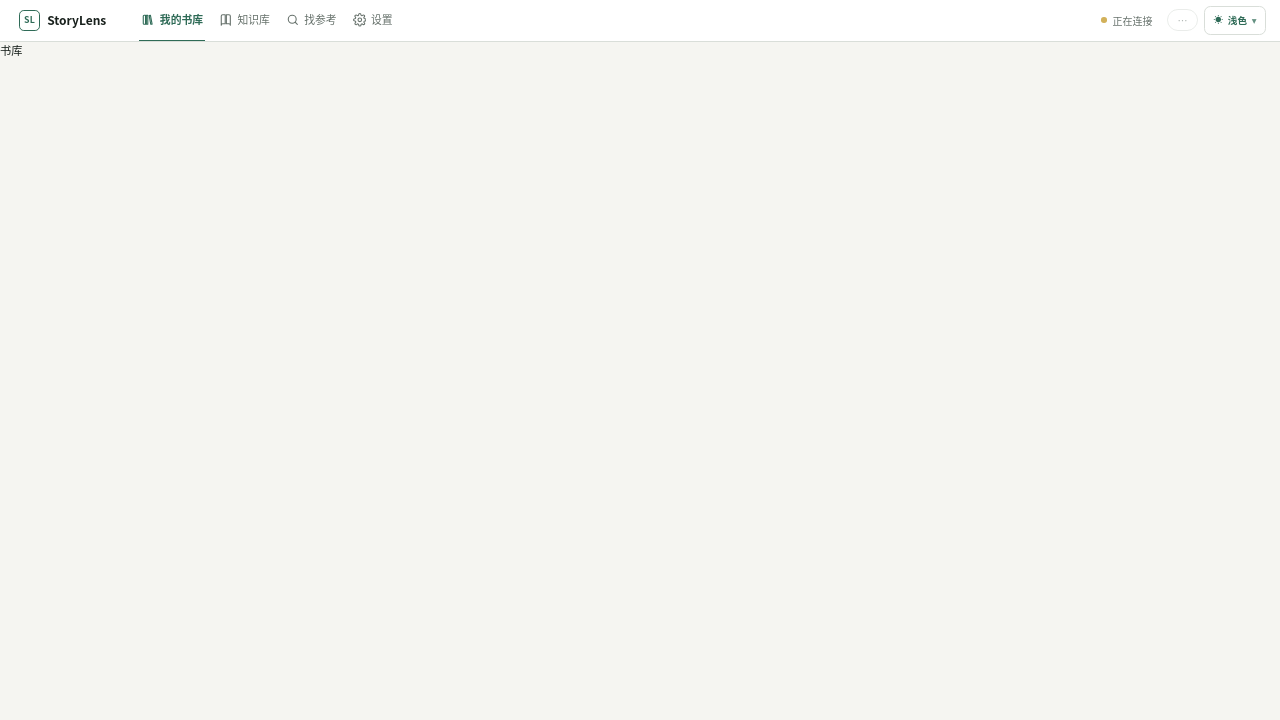
it: Appearance theme header control › keeps theme across routes and settings has no editable theme select
Click the button with test id "appearance-theme-trigger" at [1235, 20], box [1204,6,1266,35]
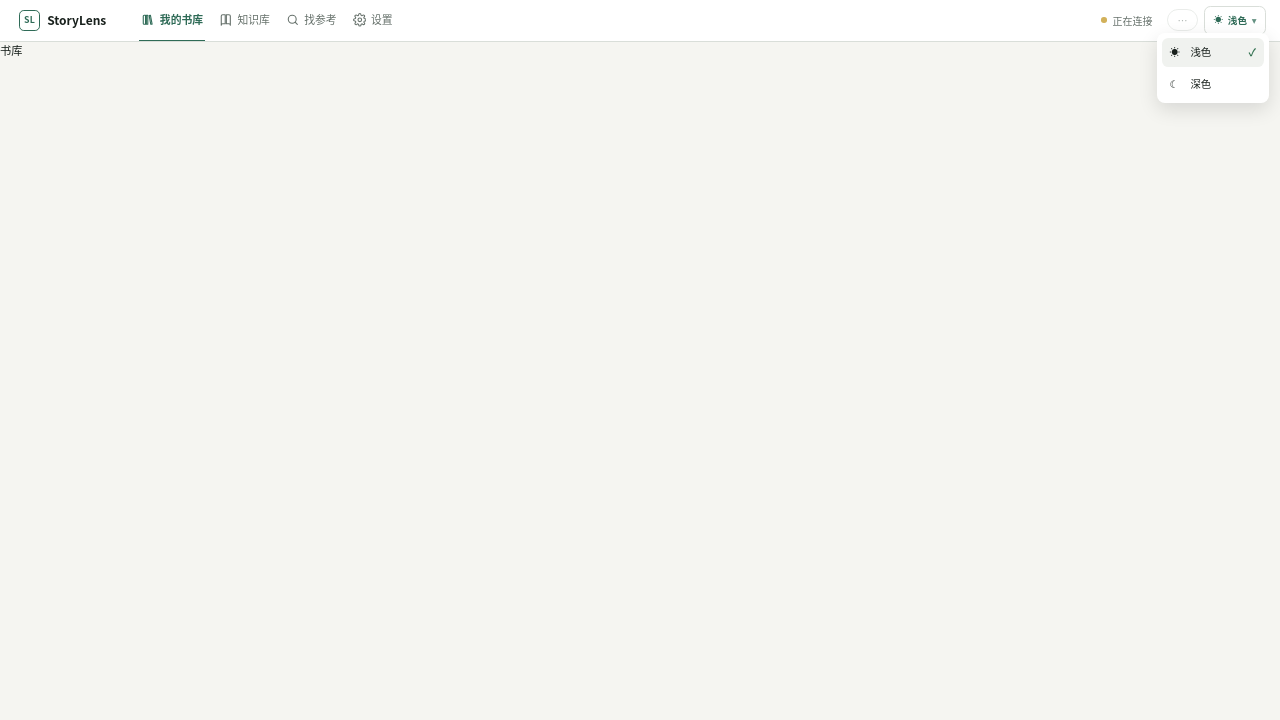
Click the menu item with test id "appearance-theme-option-dark" at [1213, 84], box [1162,70,1264,99]
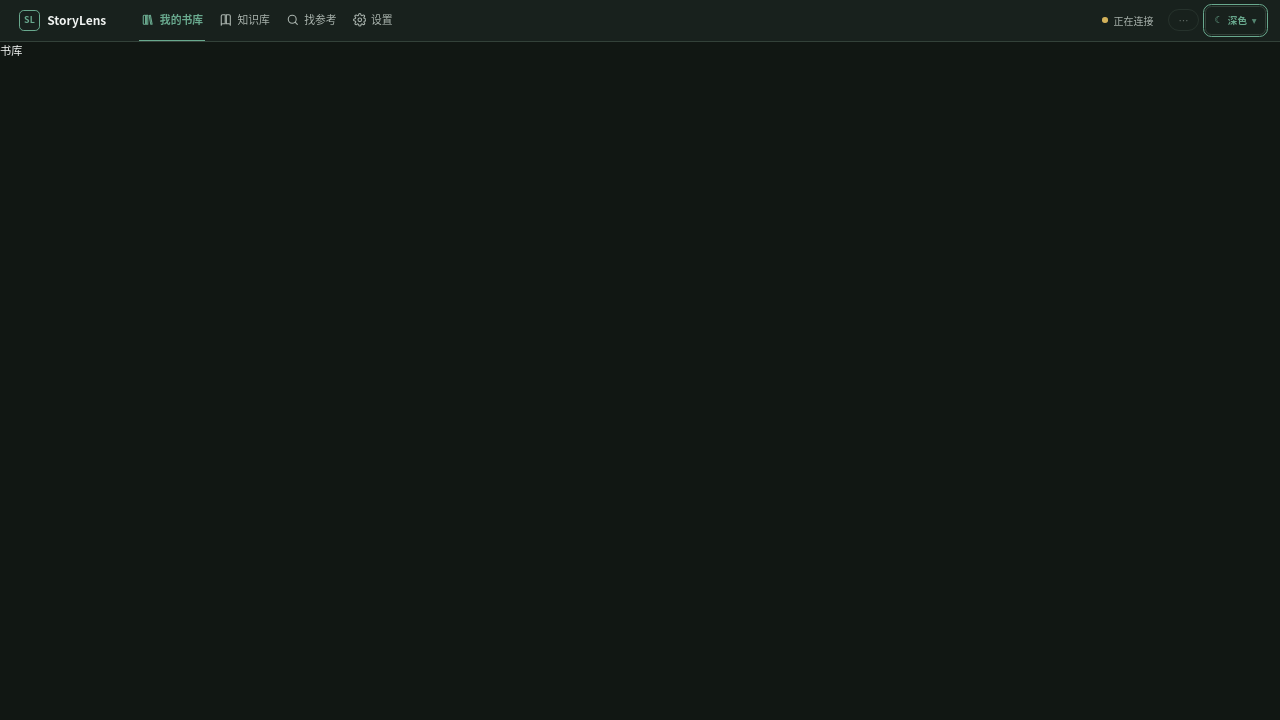
Click the link with test id "nav-settings" at [372, 19], box [352,11,392,27]
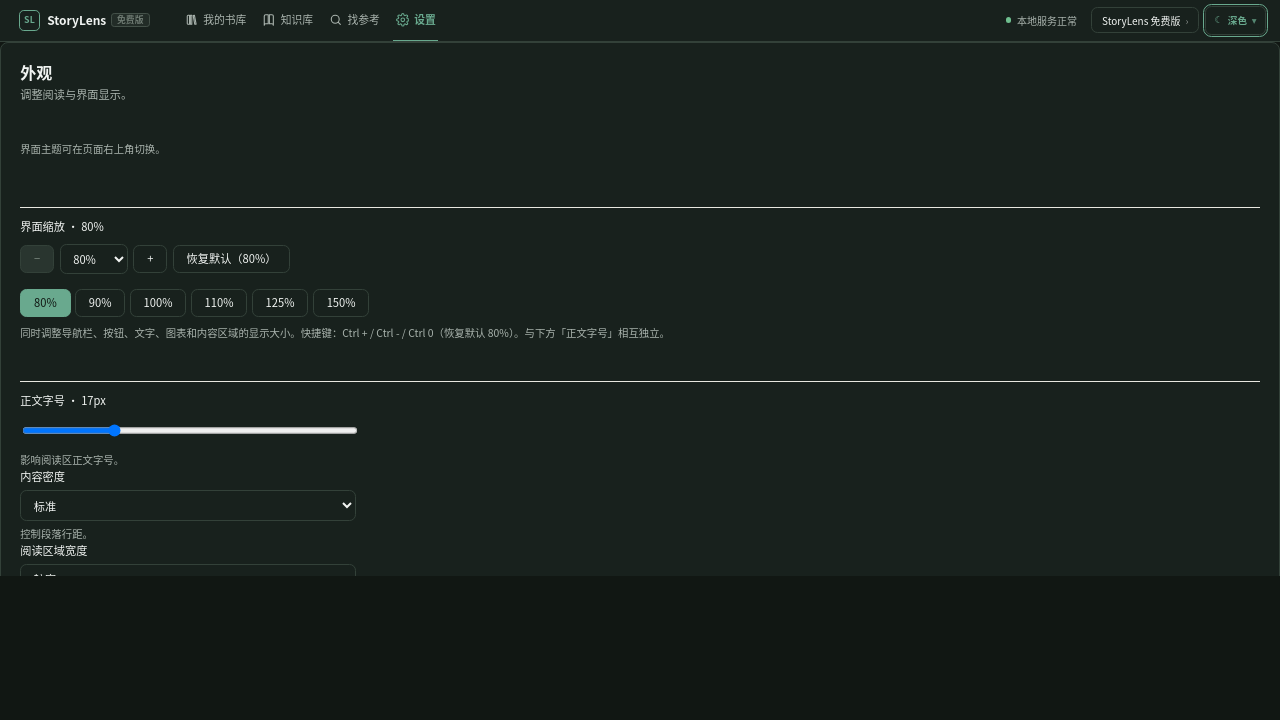
Now the button with test id "appearance-theme-trigger" shows "深色", box [1205,6,1266,35]
Now the element with test id "settings-panel-appearance" is shown
Now the text with test id "appearance-theme-relocated-hint" shows "右上角", box [20,141,166,156]
